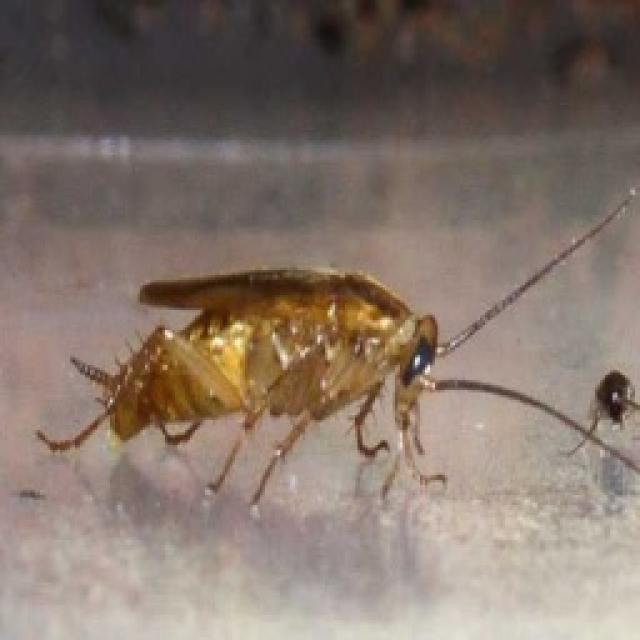cockroach: (0, 226, 525, 536)
